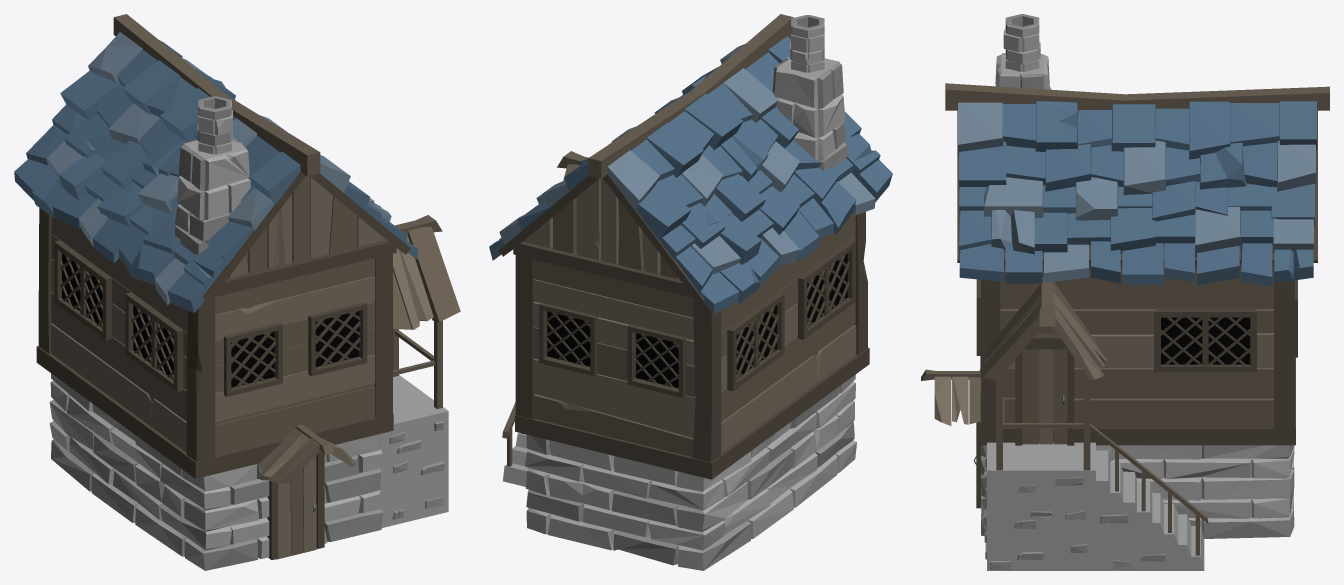
File: Tavern.glb
3 views of the same model, side by side, from view 1: azimuth 30°, elevation 25°; view 2: azimuth 150°, elevation 25°; view 3: azimuth 270°, elevation 25° (orthographic).
Visible parts, largest first — view 1: tavern; view 2: tavern; view 3: tavern.
Boxes of the visible parts, x1=… form: tavern: x1=14, y1=14, x2=460, y2=570; tavern: x1=489, y1=14, x2=892, y2=570; tavern: x1=921, y1=14, x2=1329, y2=570.
Bounding box in the file's own units: 6.74 × 9.81 × 8.14.
Materials: 1 (1 with a texture image).
